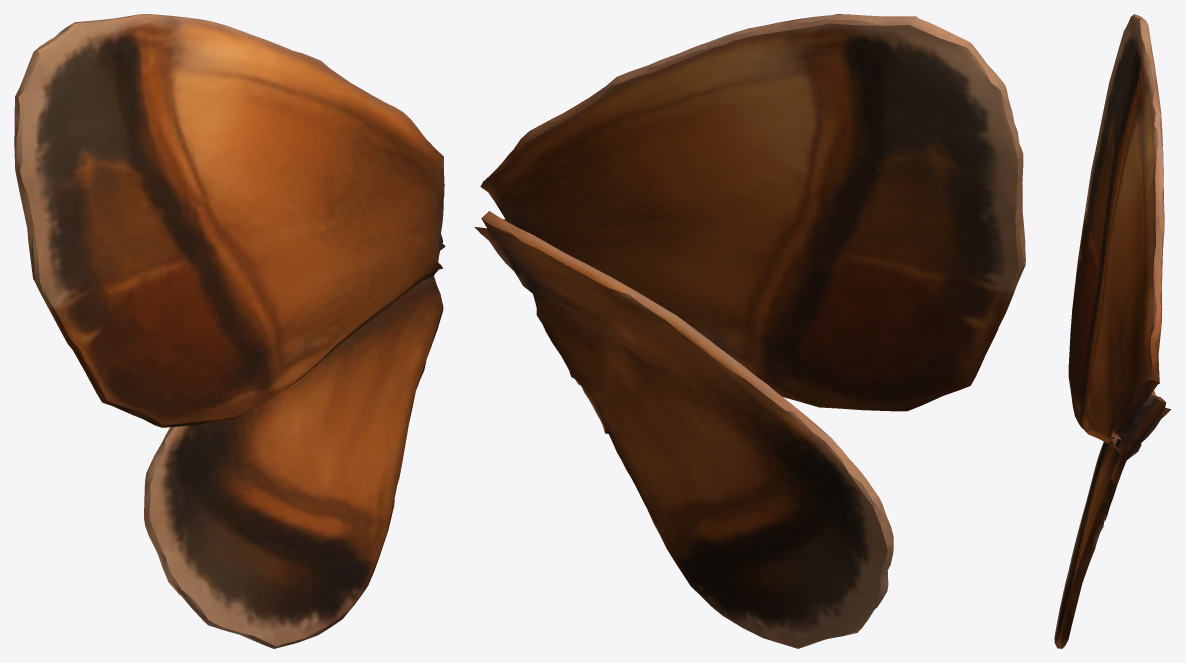
The model's file is moth_flap_left_wing.glb.
The picture shows the model from 3 angles, left to right: view 1: azimuth 30°, elevation 25°; view 2: azimuth 150°, elevation 25°; view 3: azimuth 270°, elevation 25°; orthographic projection. The views are drawn at different scales.
Visible parts, largest first — view 1: world; view 2: world; view 3: world.
Part boxes in pixels (bbox=[...]): world: bbox=[14, 14, 445, 648]; world: bbox=[474, 14, 1025, 648]; world: bbox=[1054, 14, 1170, 648].
Size of the model in its own units: 0.2773 by 0.3684 by 0.0714.
1 material, 1 textured.
